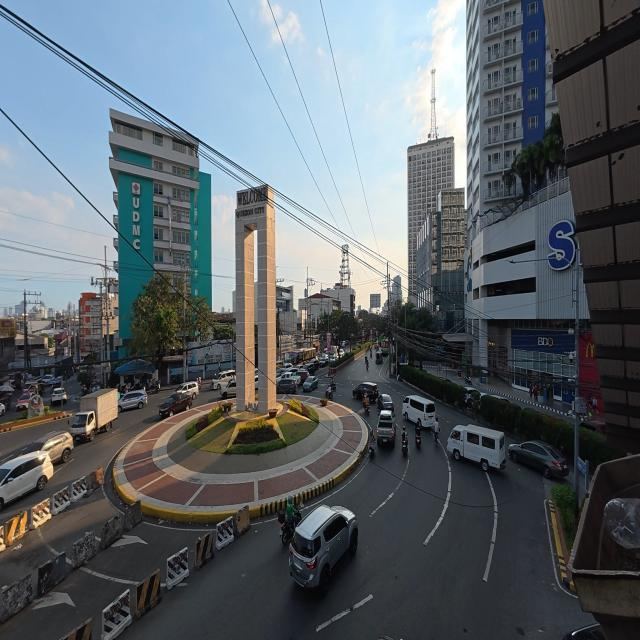car: (288, 504, 359, 595), (511, 439, 571, 478), (119, 389, 149, 410)
trucks: (69, 382, 121, 444)
